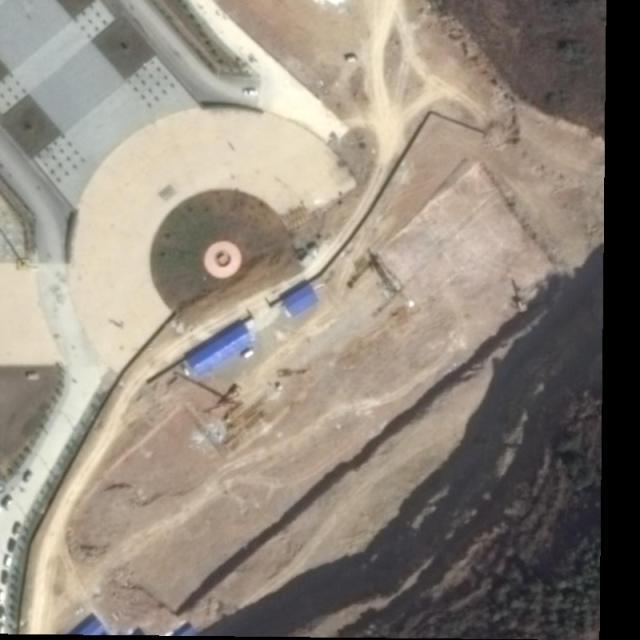vehicle: (11, 519, 24, 537), (21, 470, 33, 484), (3, 554, 14, 569), (2, 494, 12, 509), (1, 571, 10, 586), (7, 539, 16, 554), (25, 372, 38, 381)
